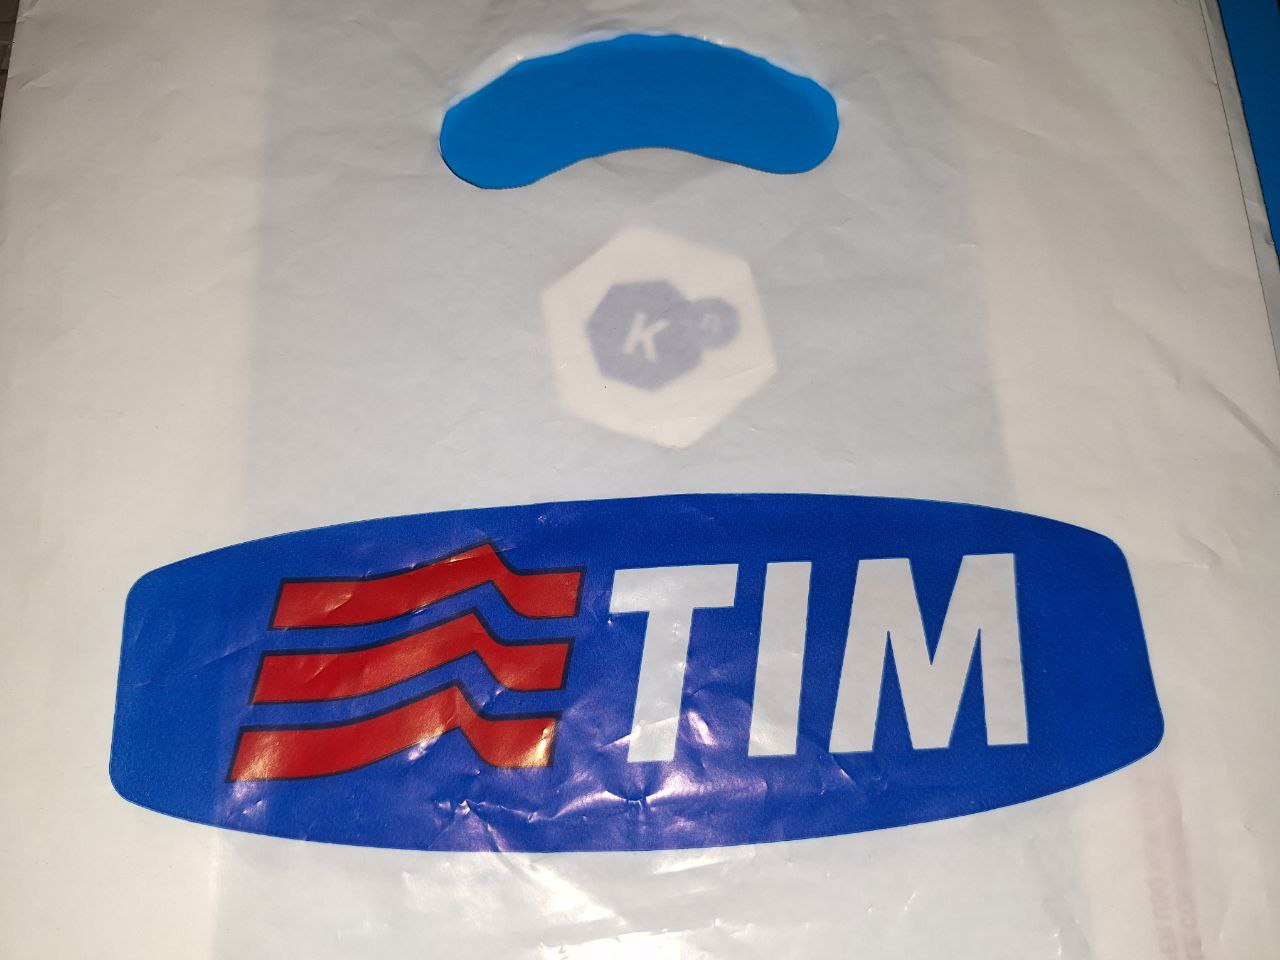knative: (581, 278, 744, 393)
